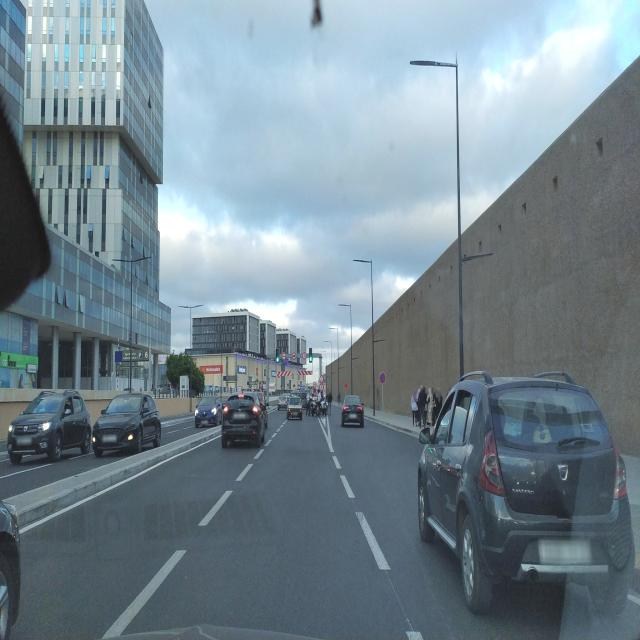car: (416, 368, 634, 616), (6, 387, 92, 465), (92, 391, 162, 458), (0, 496, 22, 638), (221, 387, 266, 449), (194, 393, 223, 428), (340, 393, 364, 428), (286, 393, 302, 421), (255, 390, 267, 422), (277, 392, 289, 411)
